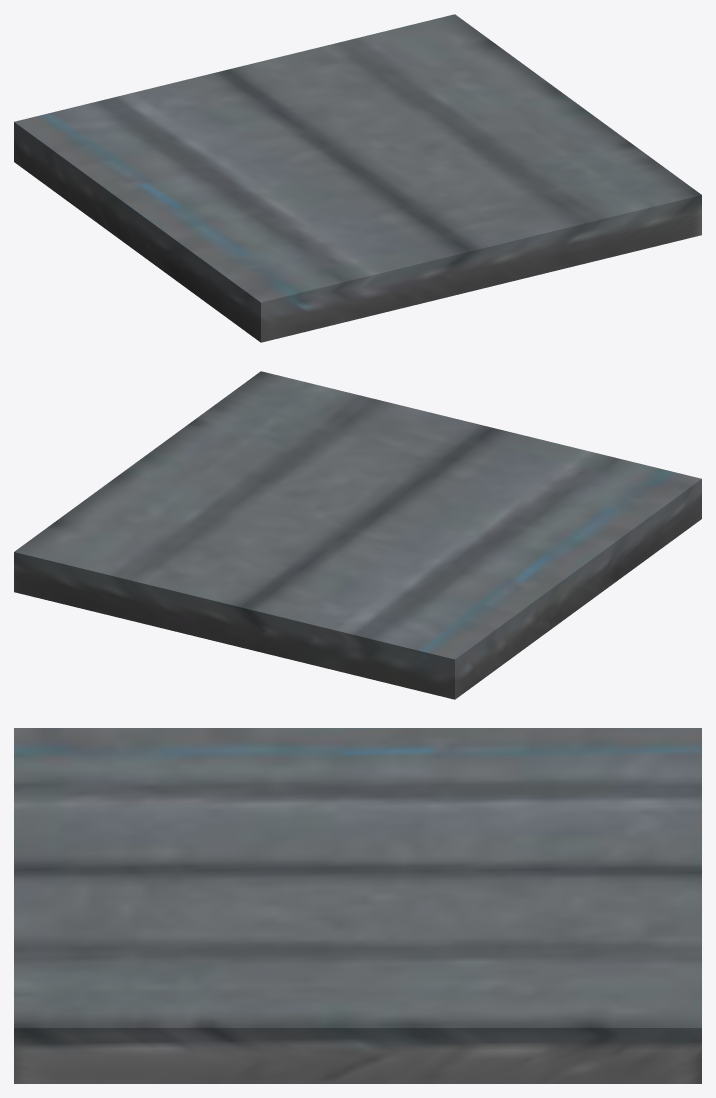
3 renders of one model, top to bottom at view 1: azimuth 30°, elevation 25°; view 2: azimuth 150°, elevation 25°; view 3: azimuth 270°, elevation 25°, orthographic. The views are drawn at different scales.
Visible parts, largest first — view 1: Rooftop Module Square; view 2: Rooftop Module Square; view 3: Rooftop Module Square.
Boxes of the visible parts, left/top/right/bottom form: Rooftop Module Square: left=14, top=14, right=701, bottom=342; Rooftop Module Square: left=14, top=371, right=701, bottom=699; Rooftop Module Square: left=14, top=728, right=701, bottom=1083.
Size of what is drawn, in the model's own units: 1.29 by 0.1125 by 1.25.
1 material, 1 textured.
